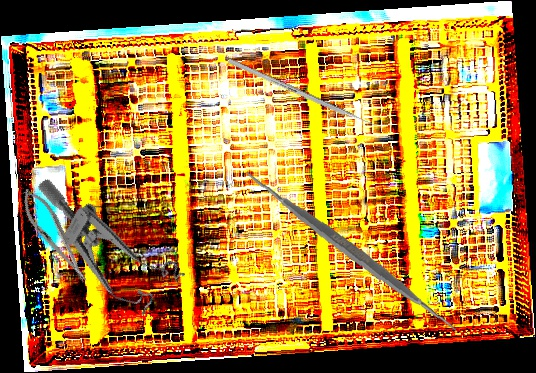Needle Holder: (13, 182, 96, 290)
Pusher: (227, 57, 389, 135)
Spatula Surgical: (245, 147, 458, 357)
Speculum: (7, 176, 195, 325)
